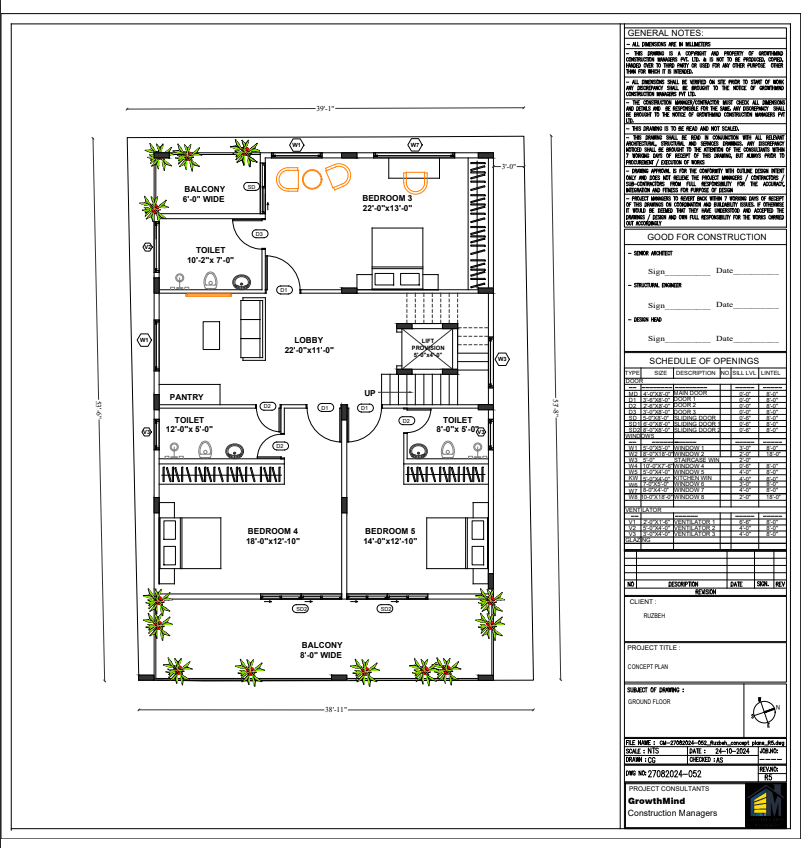door: (264, 254, 303, 292), (305, 406, 343, 444), (347, 407, 384, 445), (231, 217, 264, 252), (405, 408, 434, 435), (254, 405, 282, 432), (257, 433, 283, 460)
